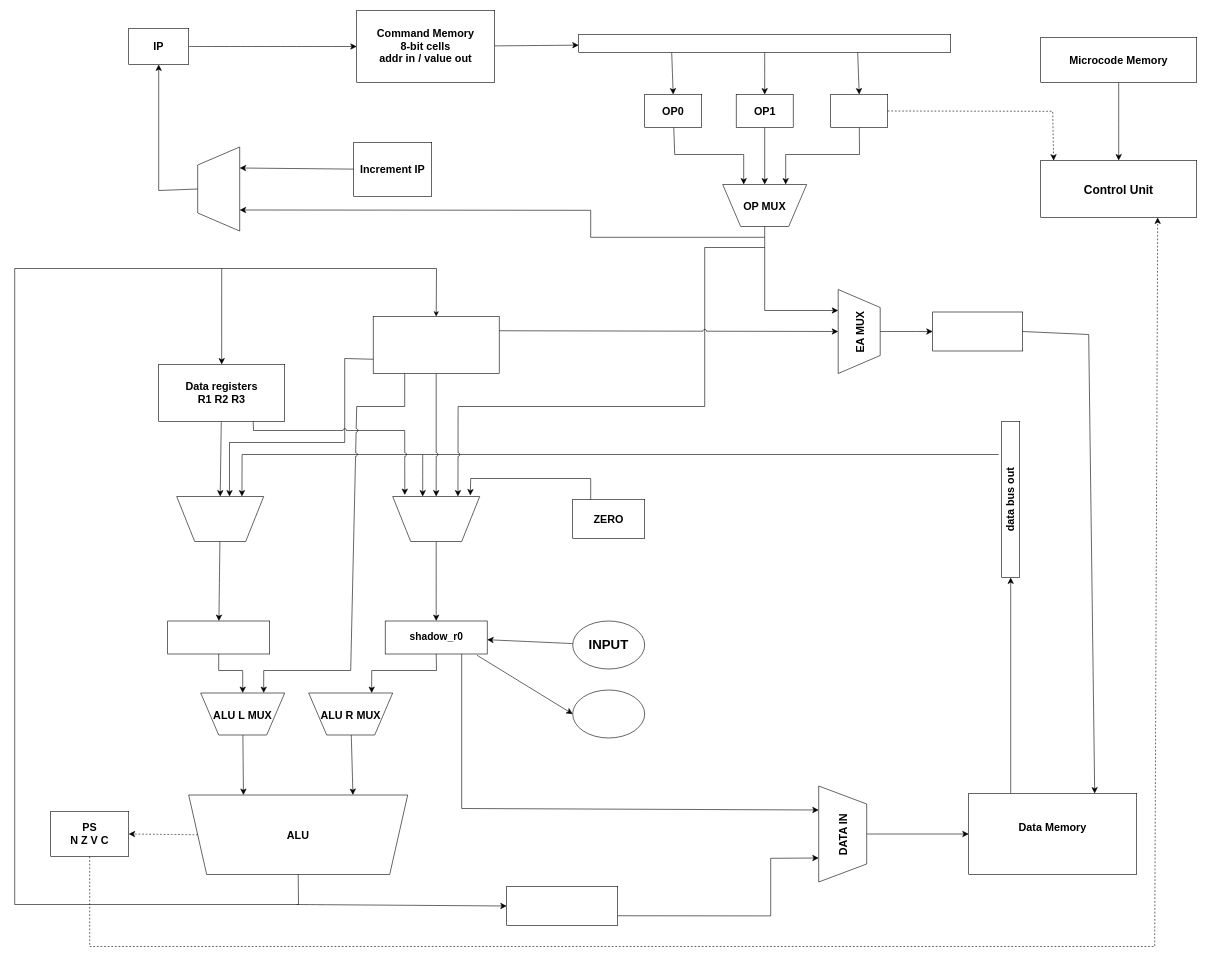
The diagram is 1207 pixels wide and 963 high, and some of its shapes have lost their labels. The shapes that lost their labels are listed below. From the top down, each one's centre as x and y in pixels, then its label:
At [764,43]: "command value bus".
At [859,111]: "CR | OKR".
At [218,188]: "IP MUX".
At [436,345]: "Address registers A1 A2 A3 shadow_a0".
At [977,331]: "EA0 EA1".
At [220,519]: "DST MUX".
At [436,519]: "SRC MUX".
At [218,637]: "shadow_r1".
At [608,713]: "OUTPUT".
At [562,906]: "shadow_r2 ALU result".
